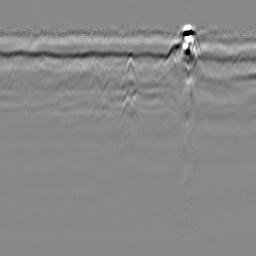cavity: (121, 51, 140, 92)
